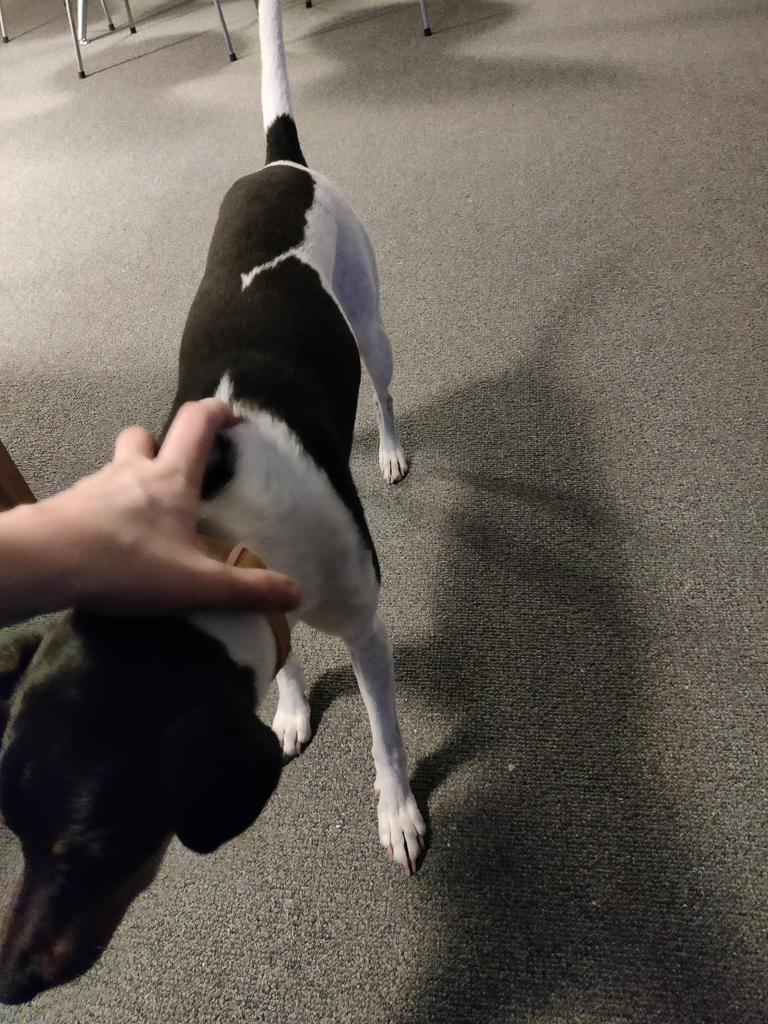Dog: (0, 0, 446, 1024)
Humanoid: (0, 375, 317, 649)
